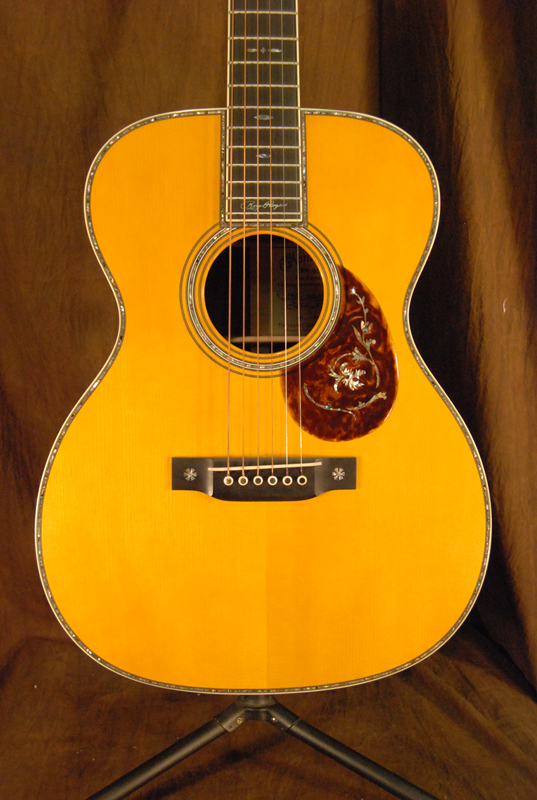guitar: (37, 1, 498, 701)
